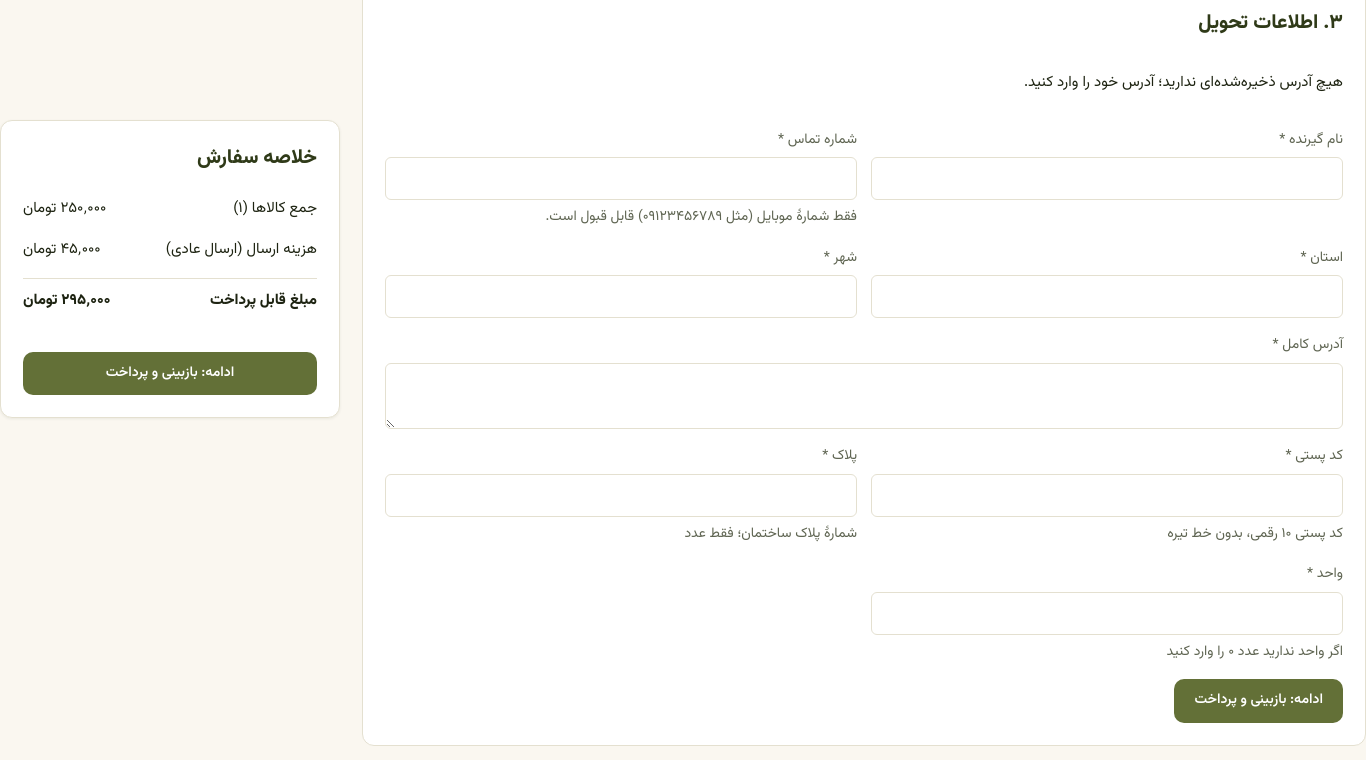
Scenario: Place-order button & flow validation (Task 2) › account with zero saved addresses: shows inline form and explains what is missing if empty
(page scrolled)
Check: the heading "۳. اطلاعات تحویل" is shown, box [1198,7,1343,39]
What coordinates should you click on to do the following:
click the button "ادامه: بازبینی و پرداخت" below "اگر واحد ندارید عدد ۰ را وارد کنید"
I would click on:
 (1259, 701)
Its box is [1174,679,1343,723].
(page scrolled)
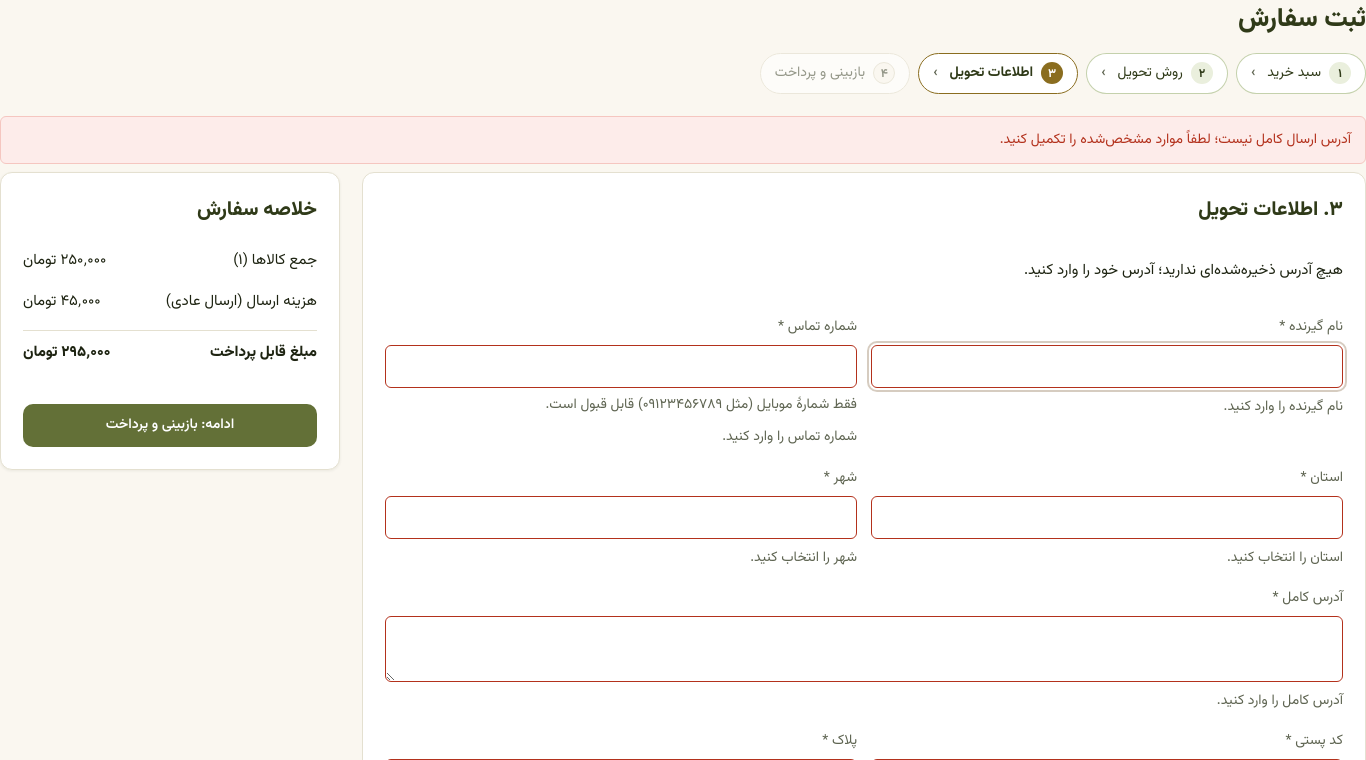
Check: the text "آدرس ارسال کامل نیست؛ لطفاً موارد مشخص‌شده را تکمیل کنید." is shown, box [0,116,1365,164]
